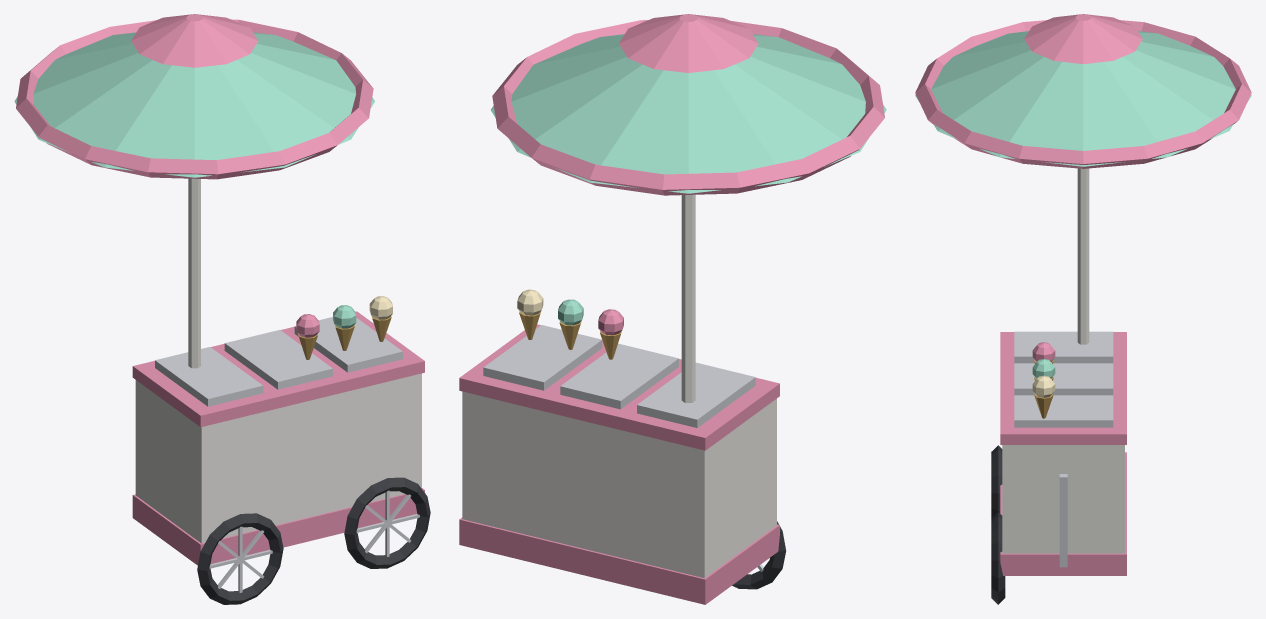
The model's file is ice_cream_cart.glb.
The picture shows the model from 3 angles, left to right: view 1: azimuth 30°, elevation 25°; view 2: azimuth 150°, elevation 25°; view 3: azimuth 270°, elevation 25°; orthographic projection. The views are drawn at different scales.
Parts seen in each view (by area): view 1: ice_cream_cart; view 2: ice_cream_cart; view 3: ice_cream_cart.
Boxes of the visible parts, bbox=[...] form: ice_cream_cart: bbox=[14, 14, 430, 604]; ice_cream_cart: bbox=[459, 14, 886, 604]; ice_cream_cart: bbox=[915, 14, 1251, 604].
Bounding box in the file's own units: 1.99 × 2.87 × 1.7.
